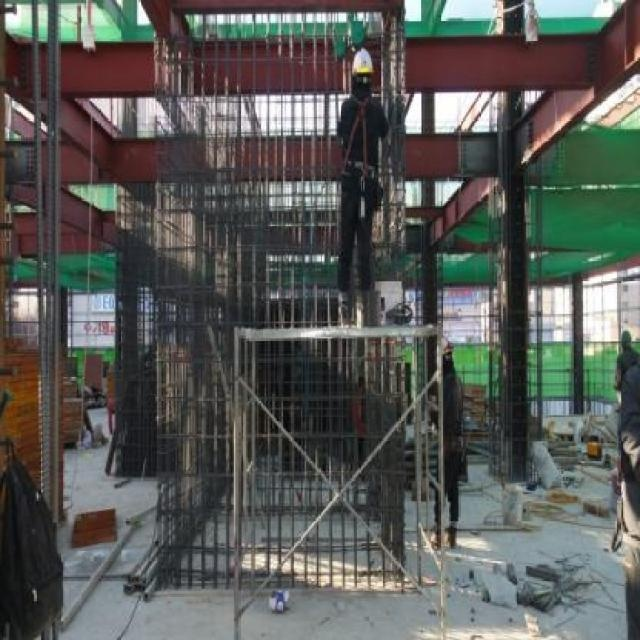Arnes_seguridad: (343, 97, 377, 179)
